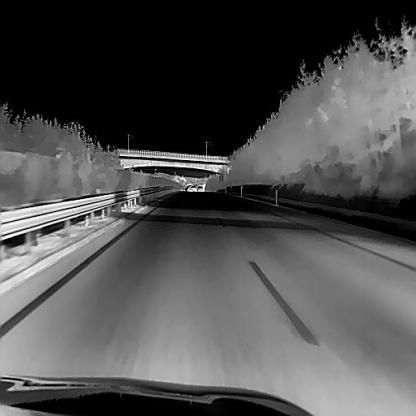car: (196, 183, 204, 190)
